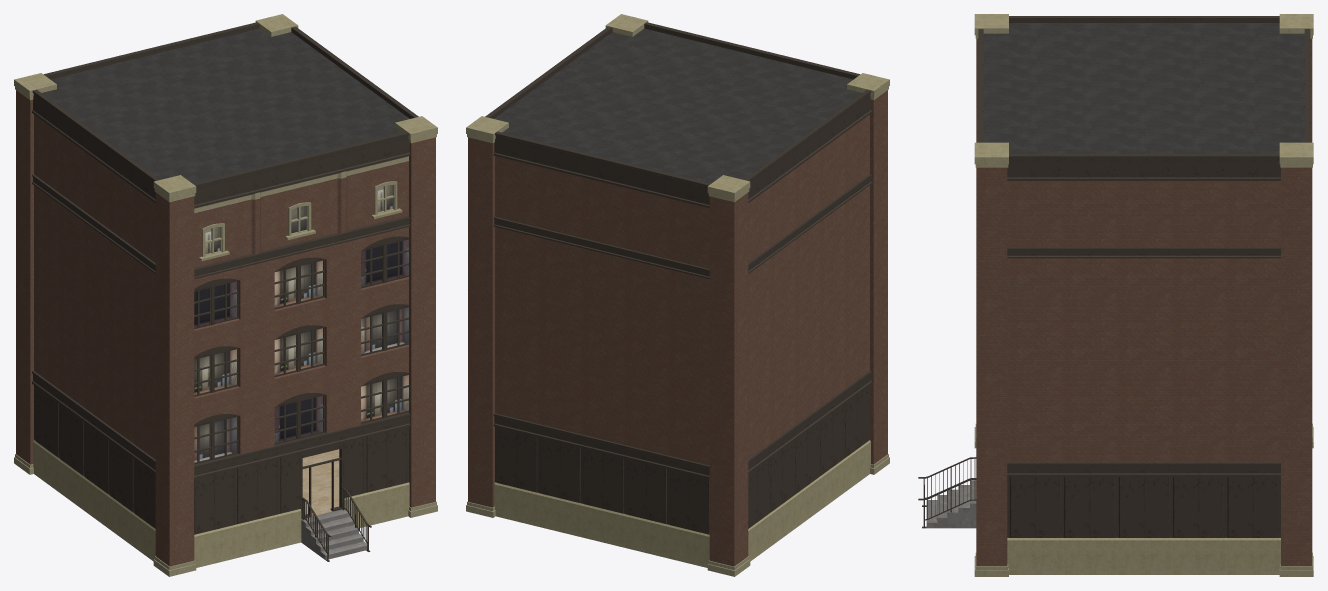
Rendered from Building_Small_1.gltf.
3 renders of one model, left to right at view 1: azimuth 30°, elevation 25°; view 2: azimuth 150°, elevation 25°; view 3: azimuth 270°, elevation 25°, orthographic. The views are drawn at different scales.
Parts seen in each view (by area): view 1: Building_Small_1; view 2: Building_Small_1; view 3: Building_Small_1.
Part boxes in pixels (x1=…): Building_Small_1: x1=14, y1=14, x2=437, y2=576; Building_Small_1: x1=466, y1=14, x2=889, y2=576; Building_Small_1: x1=918, y1=14, x2=1313, y2=576.
Bounding box in the file's own units: 12.46 × 17.03 × 14.54.
Materials: 13 (12 with a texture image).
